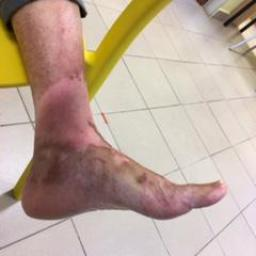Medial View -Left Foot-: (12, 74, 240, 246)
